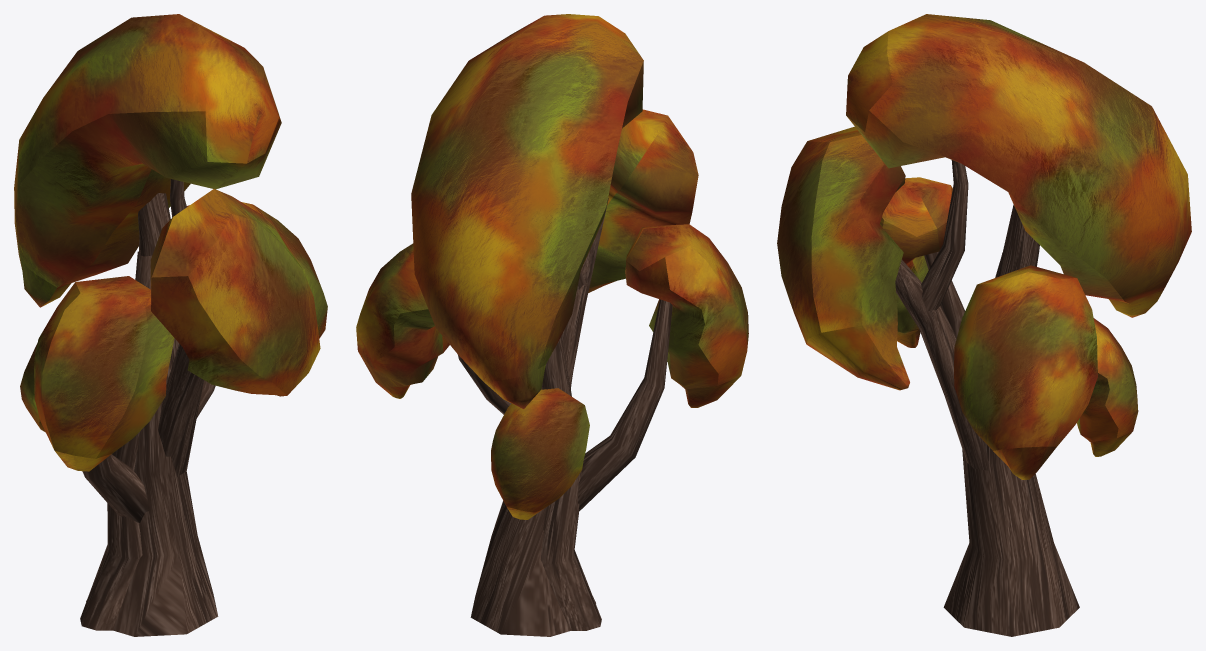
File: github_cc0_garden_Tree01.glb
3 views of the same model, side by side, from view 1: azimuth 30°, elevation 25°; view 2: azimuth 150°, elevation 25°; view 3: azimuth 270°, elevation 25° (orthographic). The views are drawn at different scales.
Visible parts, largest first — view 1: Tree01; view 2: Tree01; view 3: Tree01.
Part boxes in pixels (x1,y1,x2,y2): Tree01: (14,14,327,636); Tree01: (356,14,748,636); Tree01: (777,14,1191,636).
Bounding box in the file's own units: 4.04 × 6.74 × 4.35.
Materials: 2 (2 with a texture image).
